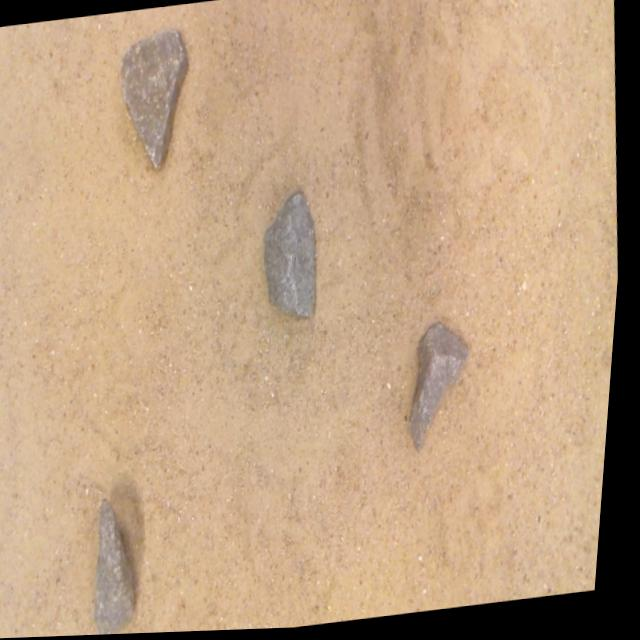rock: (123, 33, 189, 169), (416, 327, 475, 455), (268, 196, 320, 320), (105, 501, 143, 636)
